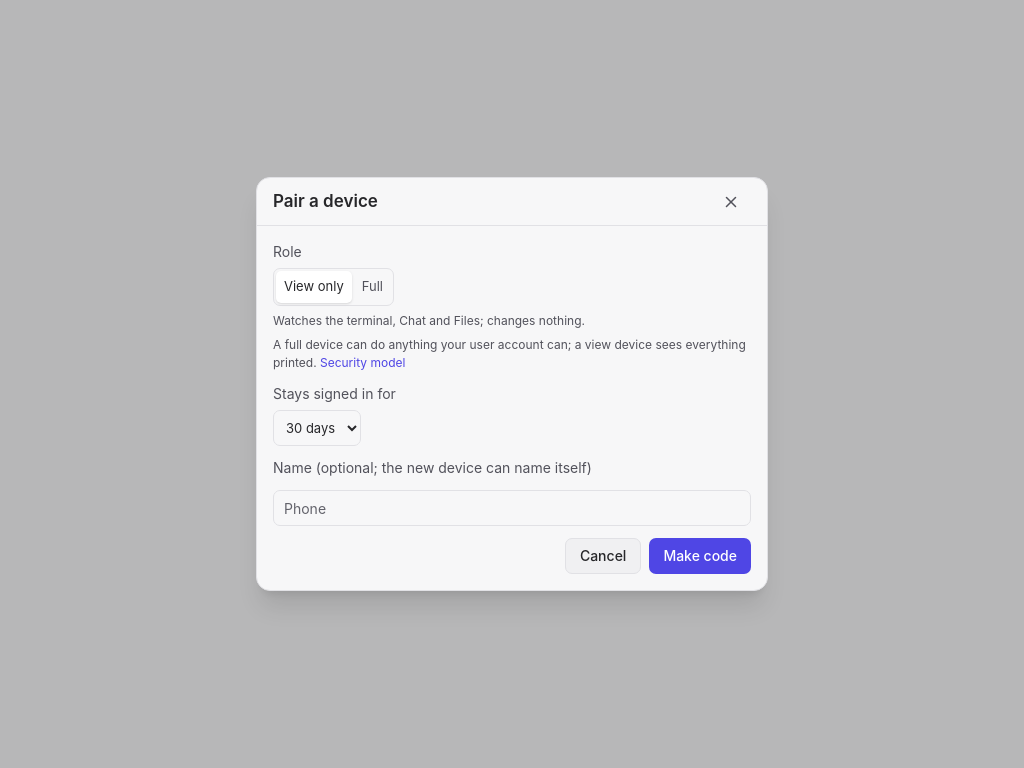
PairDeviceSheet › says why a code was refused, and clears it when the name changes
This screenshot has width=1024, height=768.
Click the button "Make code" at (700, 556), box [649, 538, 751, 574]
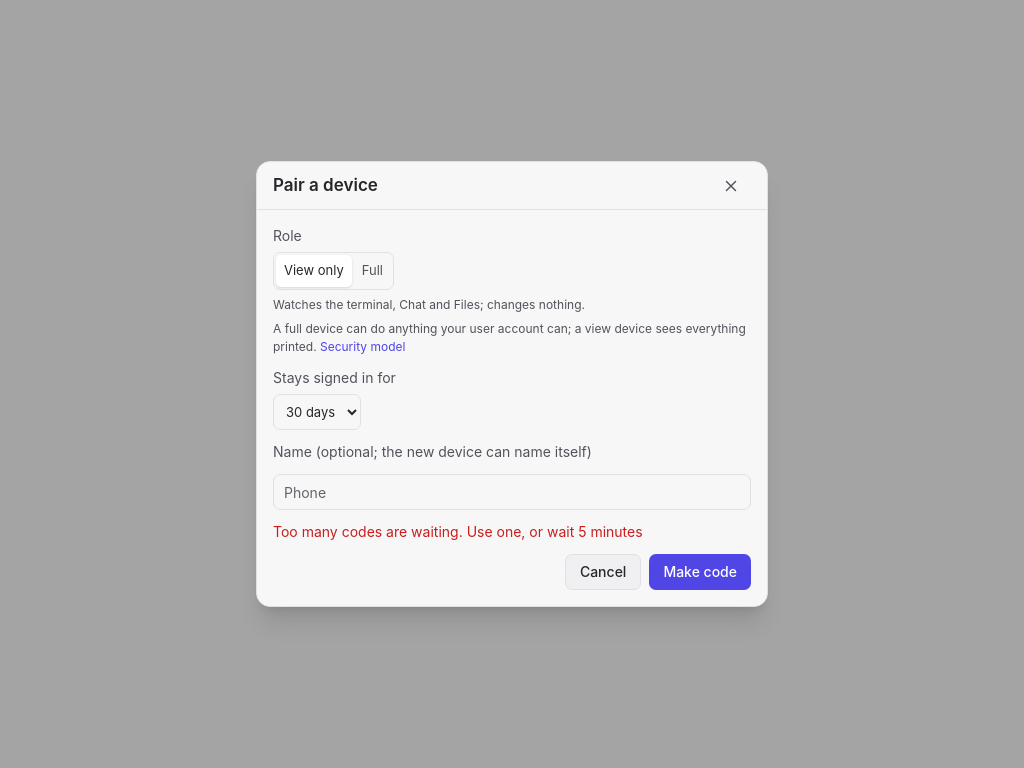
Result: the text "Too many codes are waiting. Use one, or wait 5 minutes" is shown at [273, 523, 643, 540]
Type "x" into the field at (512, 492), box [273, 474, 751, 510]
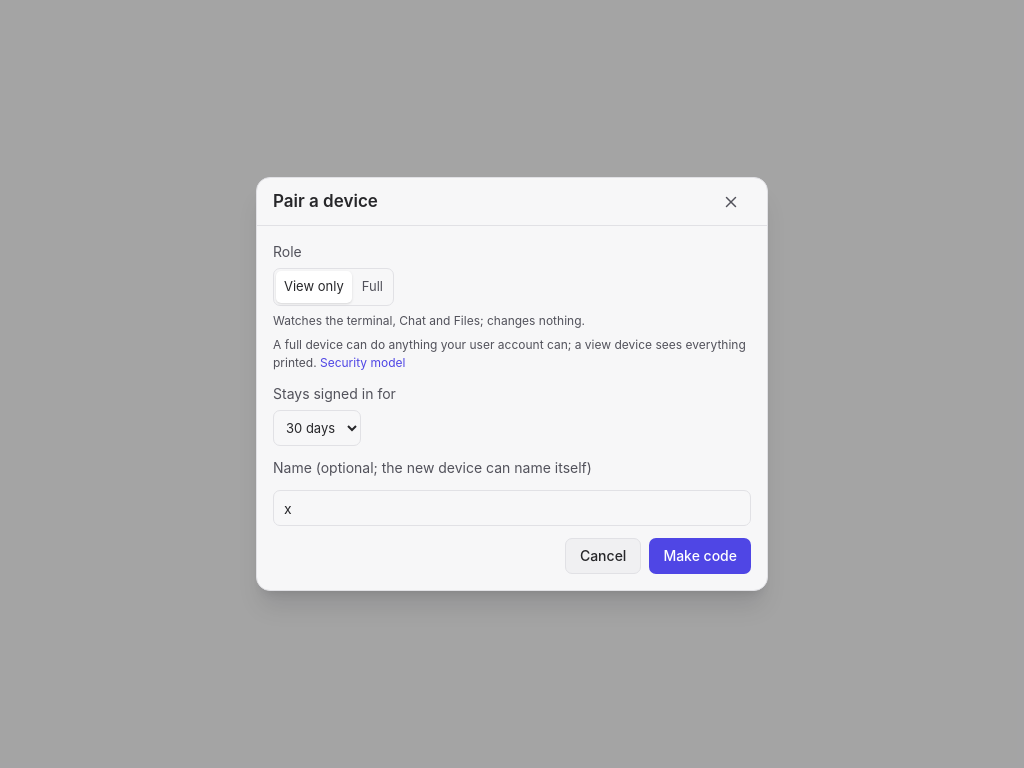
Result: the message "Too many codes are waiting. Use one, or wait 5 minutes" is gone
